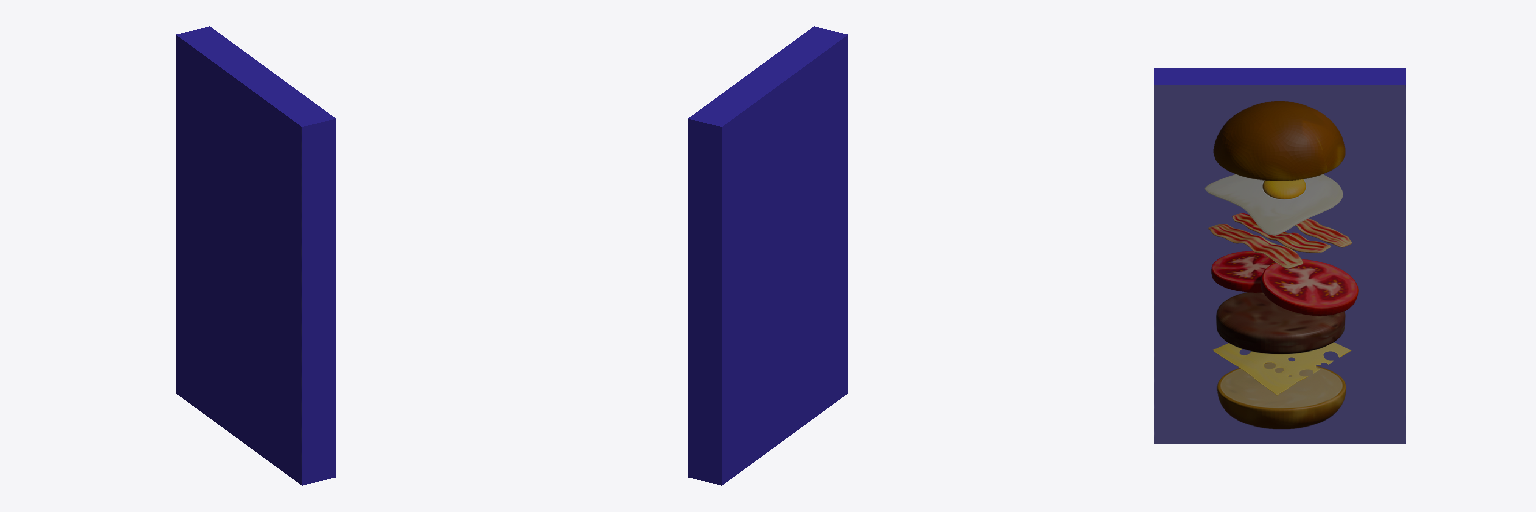
The picture shows the model from 3 angles: view 1: azimuth 30°, elevation 25°; view 2: azimuth 150°, elevation 25°; view 3: azimuth 270°, elevation 25°; orthographic projection.
Visible parts, largest first — view 1: Cube; view 2: Cube; view 3: Cube.
Part boxes in pixels (x1,y1,x2,y2): Cube: (176, 26, 335, 485); Cube: (688, 26, 847, 485); Cube: (1154, 68, 1405, 443).
Bounding box in the file's own units: 0.313 × 3.14 × 2.
1 materials, 1 textured.